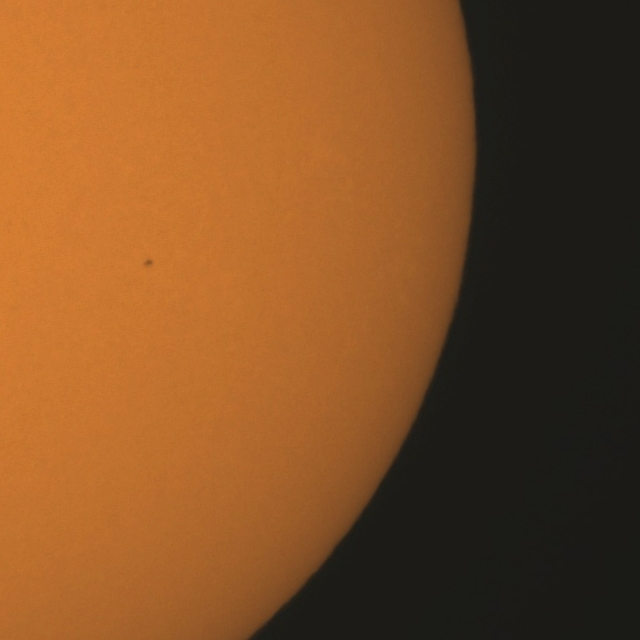sunspot: (142, 258, 155, 269)
